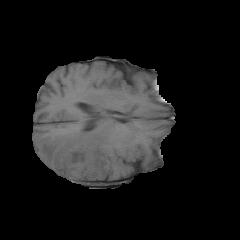glioma: (39, 129, 123, 180)
